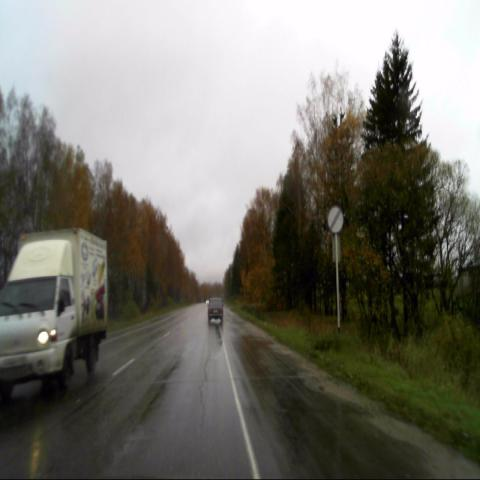3_31: (328, 205, 343, 232)
